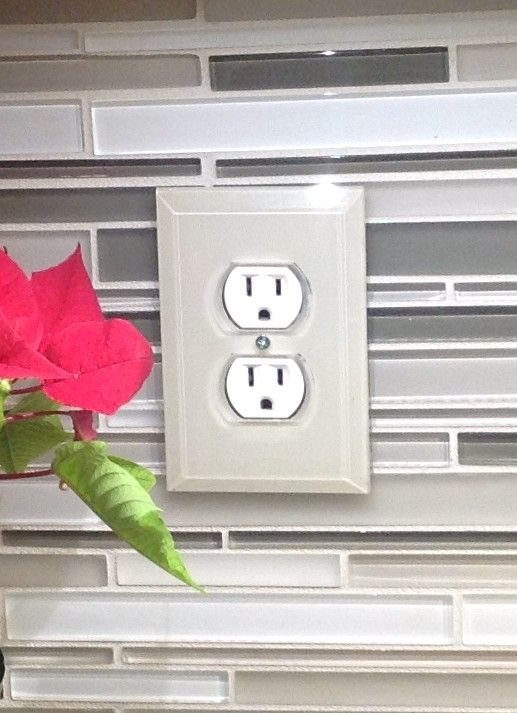outlet: (237, 271, 289, 324), (240, 362, 292, 413)
